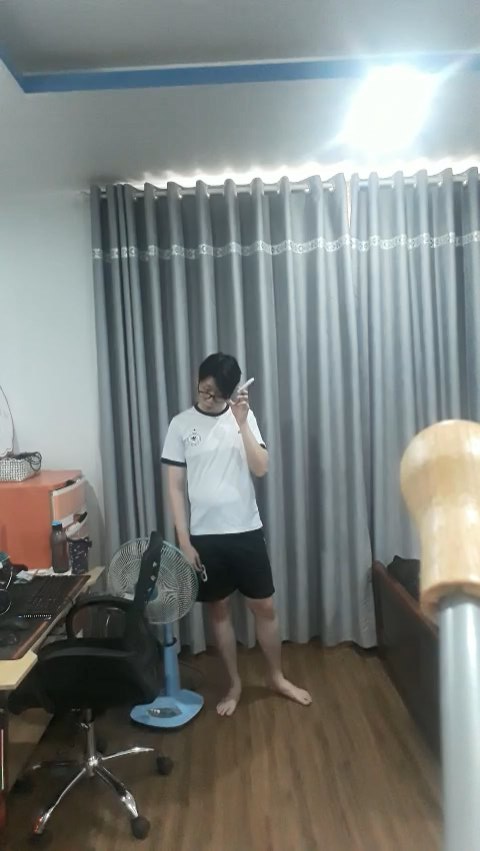cigarette: (240, 376, 256, 389)
person: (154, 348, 314, 719)
